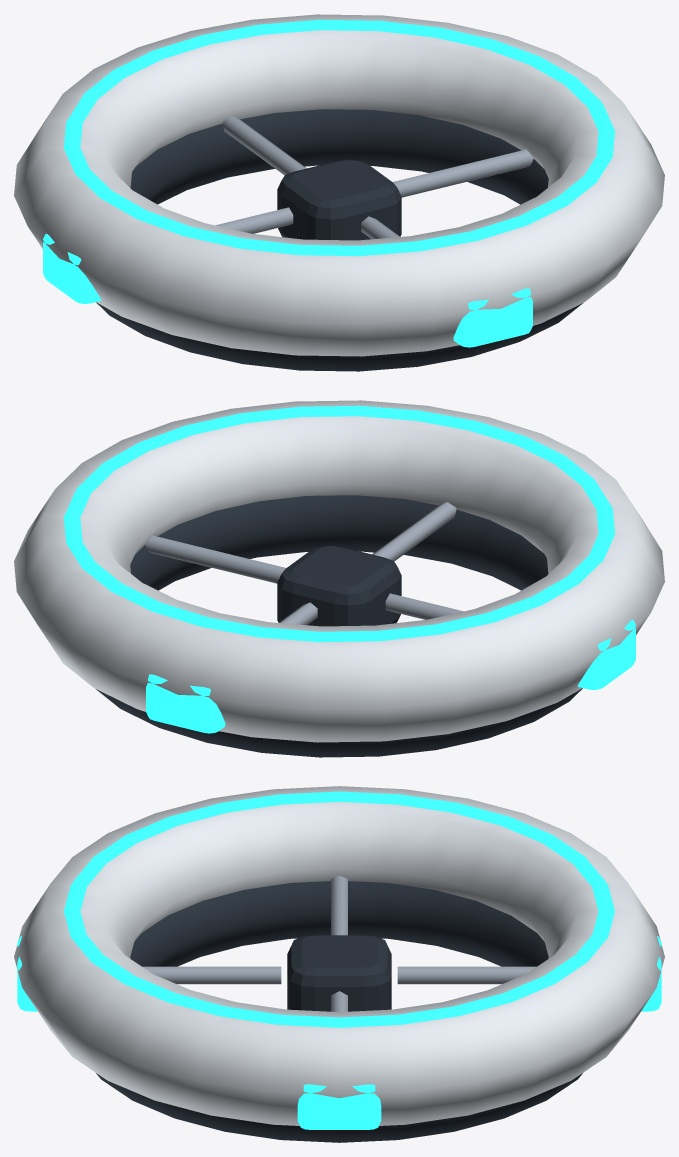
File: aerodynex_x12_motor.gltf
3 views of the same model, one above another, from view 1: azimuth 30°, elevation 25°; view 2: azimuth 150°, elevation 25°; view 3: azimuth 270°, elevation 25° (orthographic).
Parts seen in each view (by area): view 1: aerodynex_x12_motor; view 2: aerodynex_x12_motor; view 3: aerodynex_x12_motor.
Boxes of the visible parts, x1,y1,x2,y2 form: aerodynex_x12_motor: (14, 14, 664, 371); aerodynex_x12_motor: (14, 400, 664, 757); aerodynex_x12_motor: (14, 786, 664, 1142).
Size of the model in its own units: 1.12 by 0.2362 by 1.12.
